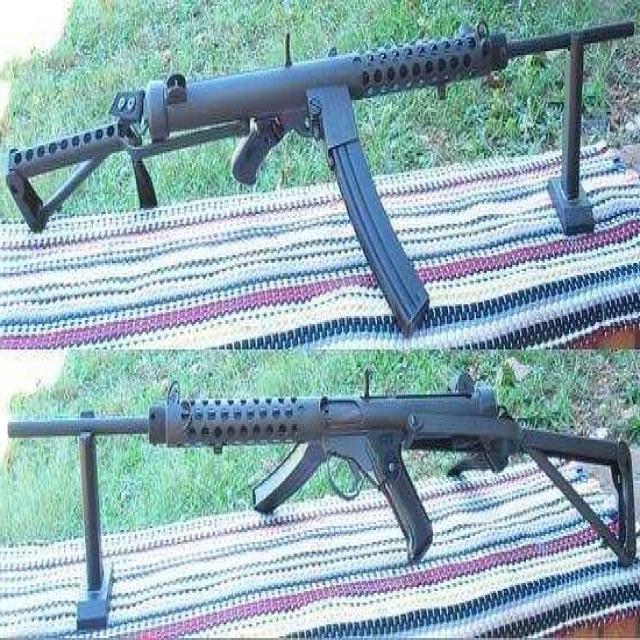heavyweapon: (1, 10, 637, 354), (1, 358, 640, 588)
